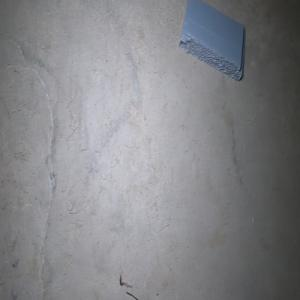PlasticPart: (179, 0, 245, 81)
